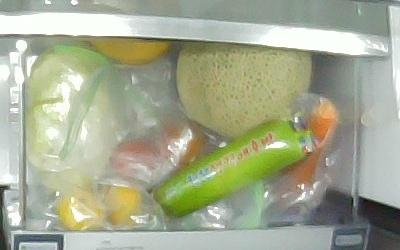cabbage_vinyl: (24, 46, 112, 190)
carrot_vinyl: (277, 100, 338, 211)
melon: (176, 41, 313, 142)
pear: (89, 40, 173, 63)
prune_vinyl: (154, 119, 205, 166), (111, 140, 161, 184)
tangerine_vinyl: (56, 187, 105, 230), (106, 185, 143, 225)
zucchini: (152, 116, 315, 218)
